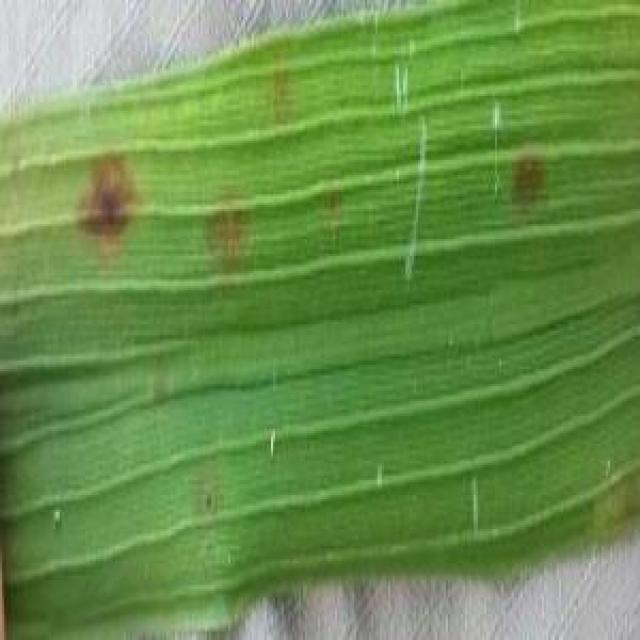brownspots: (70, 149, 134, 256), (200, 197, 254, 260), (508, 154, 548, 208)
